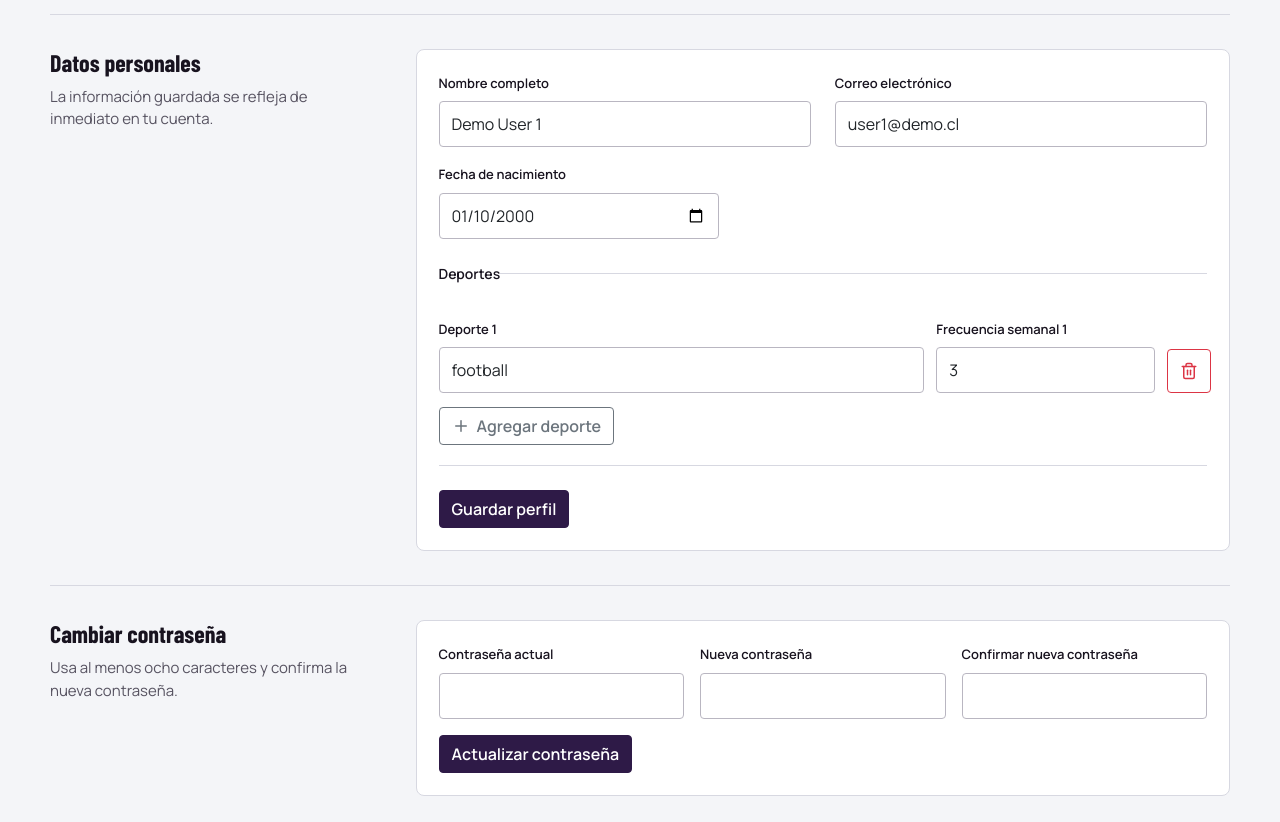
Scenario: ProfilePage › validates and changes the password with the exact backend payload
The width and height of the screenshot is (1280, 822).
Type "12345678" into the password field labelled "Contraseña actual" at (561, 696), box [438,673,684,719]
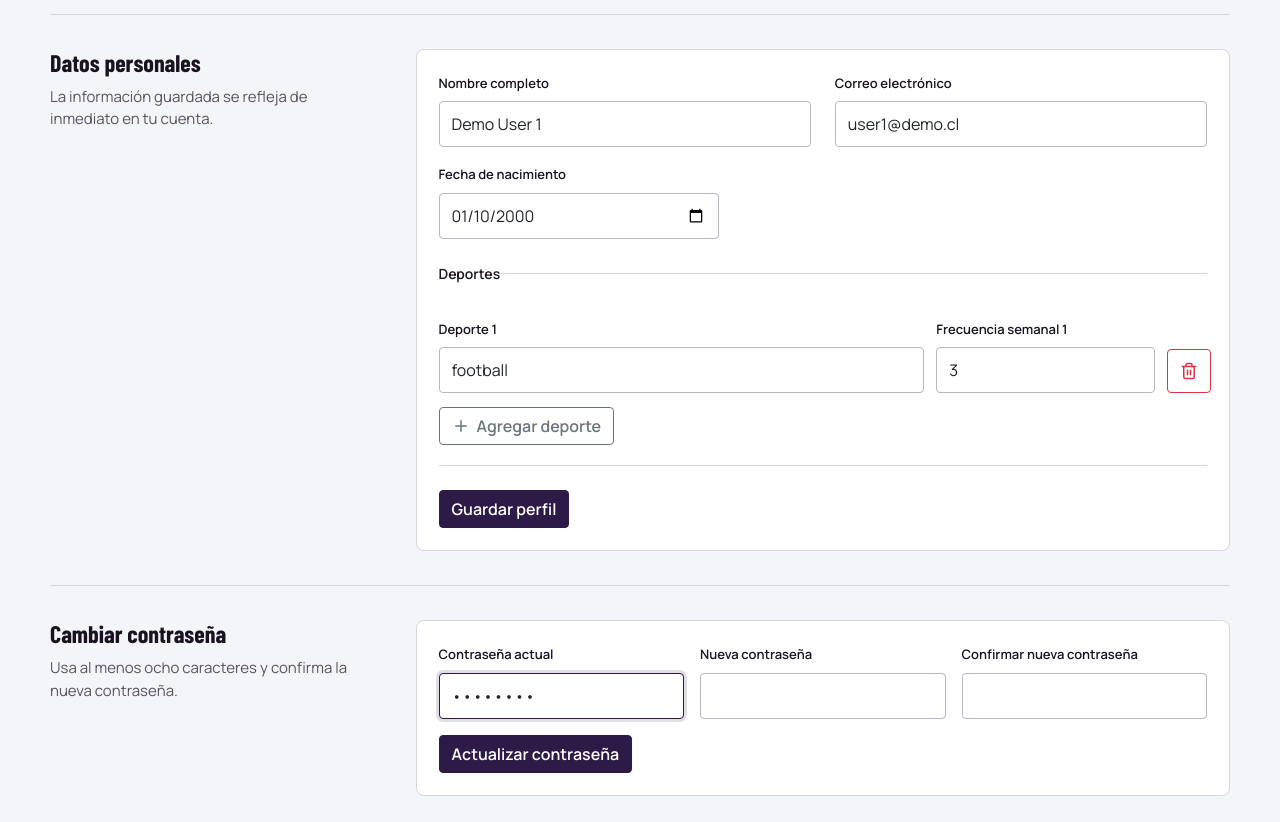
Type "87654321" into the password field labelled "Nueva contraseña" at (823, 696), box [700,673,946,719]
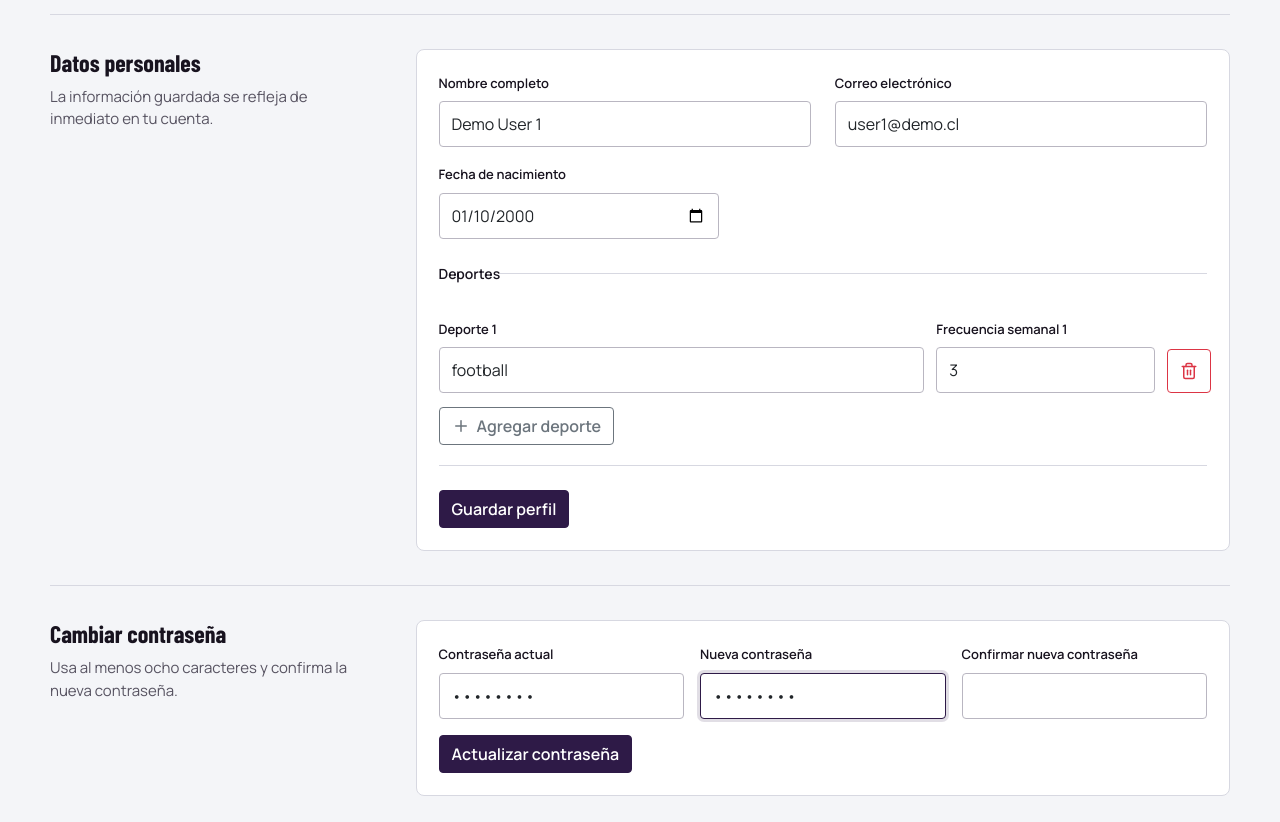
Type "87654321" into the password field labelled "Confirmar nueva contraseña" at (1084, 696), box [962,673,1207,719]
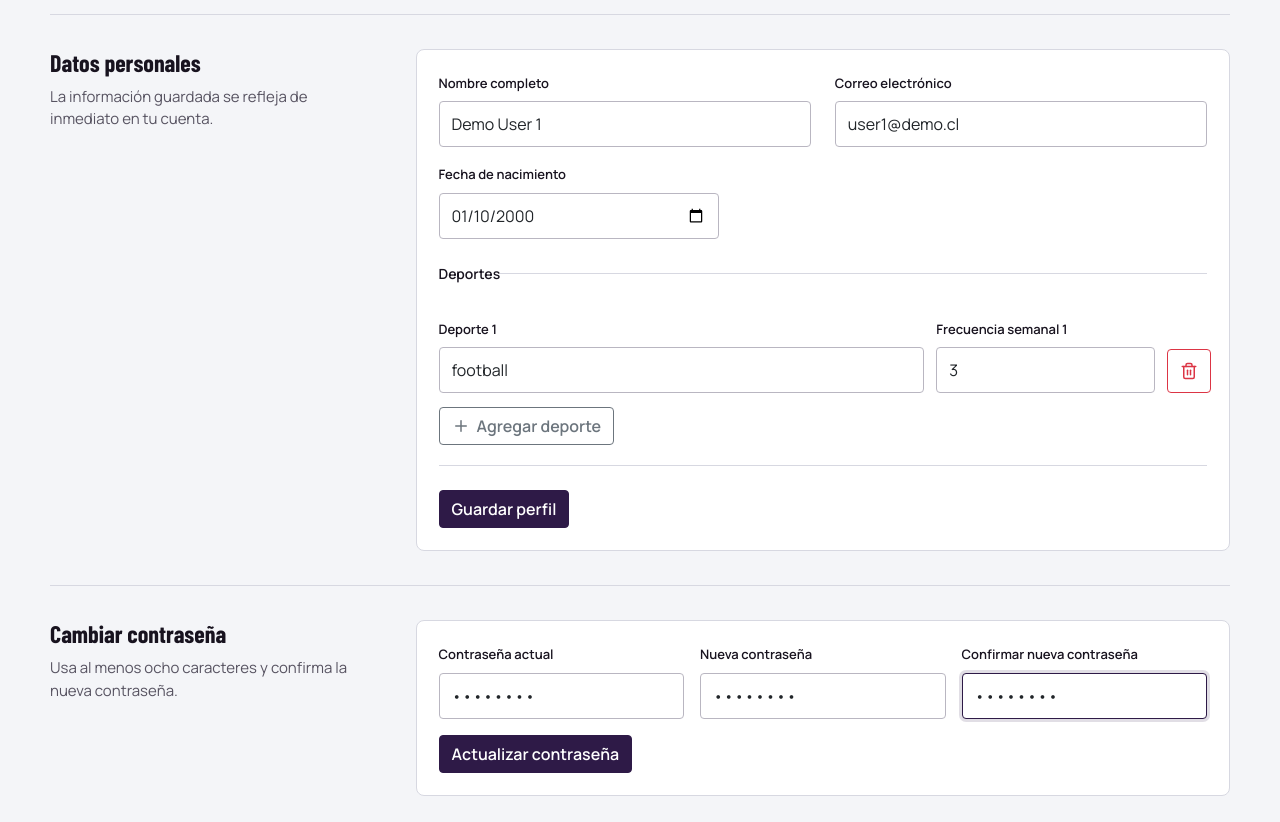
Click the button "Actualizar contraseña" at (535, 754), box [438,735,632,773]
(page scrolled)
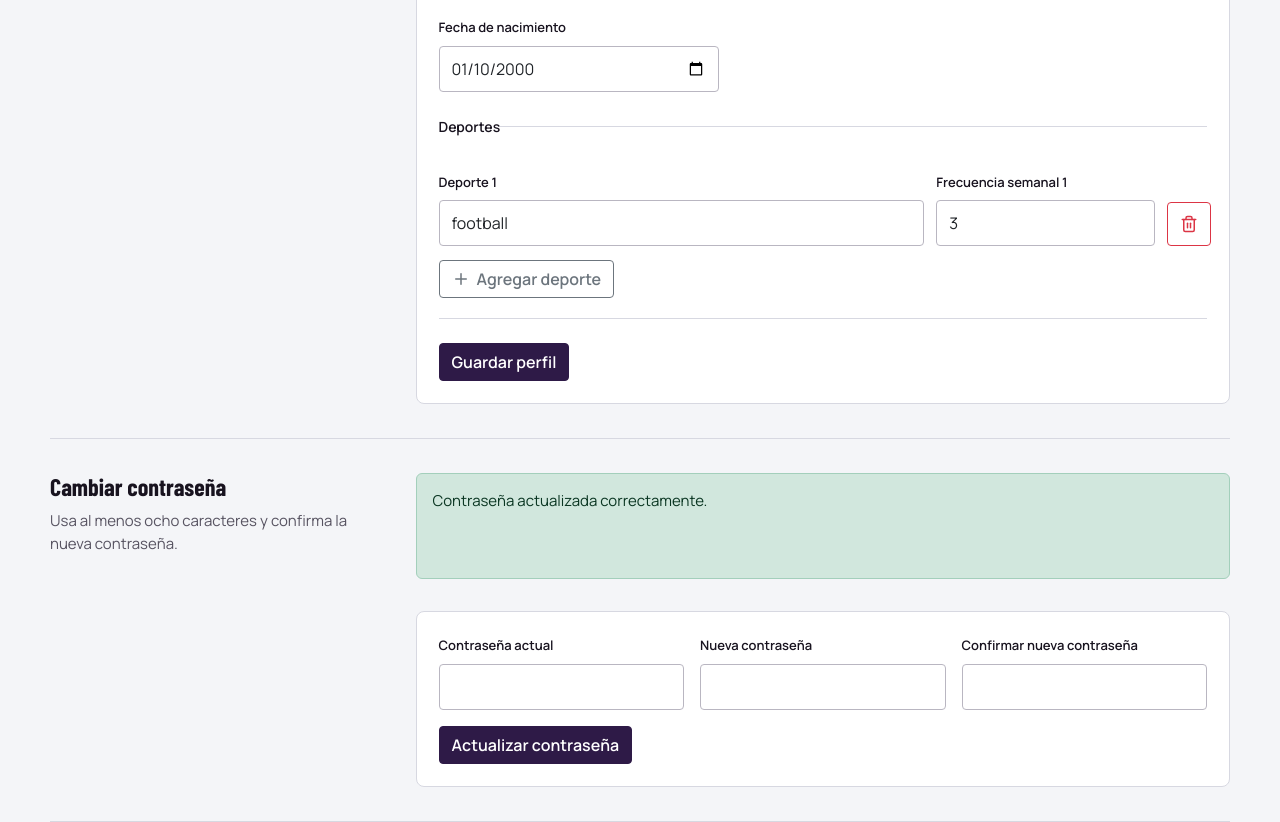
Now the text "Contraseña actualizada correctamente." is shown, box [416,473,1230,579]
Now the password field labelled "Contraseña actual" is empty, box [438,664,684,710]
